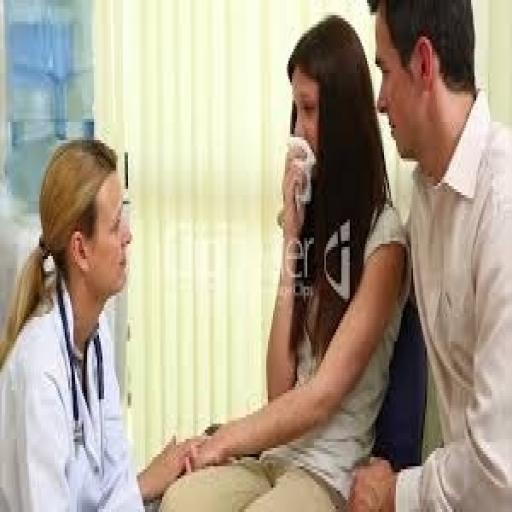sitting: (2, 3, 508, 509), (156, 12, 412, 509), (345, 0, 510, 509), (0, 134, 210, 509)
